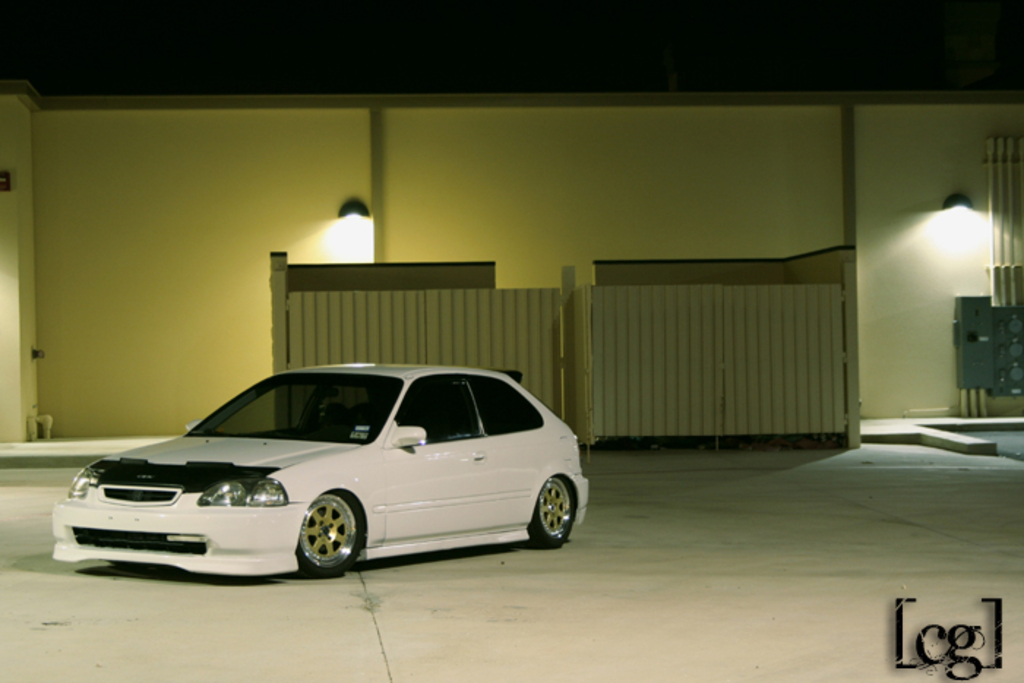mobil: (51, 356, 586, 582)
